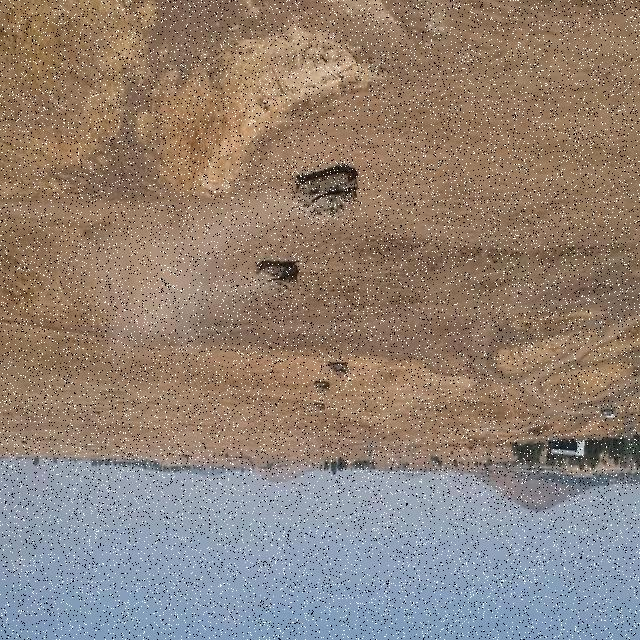MIL_MBT: (283, 157, 355, 223), (251, 257, 296, 305), (330, 357, 350, 379), (314, 379, 329, 395), (313, 406, 325, 420)
